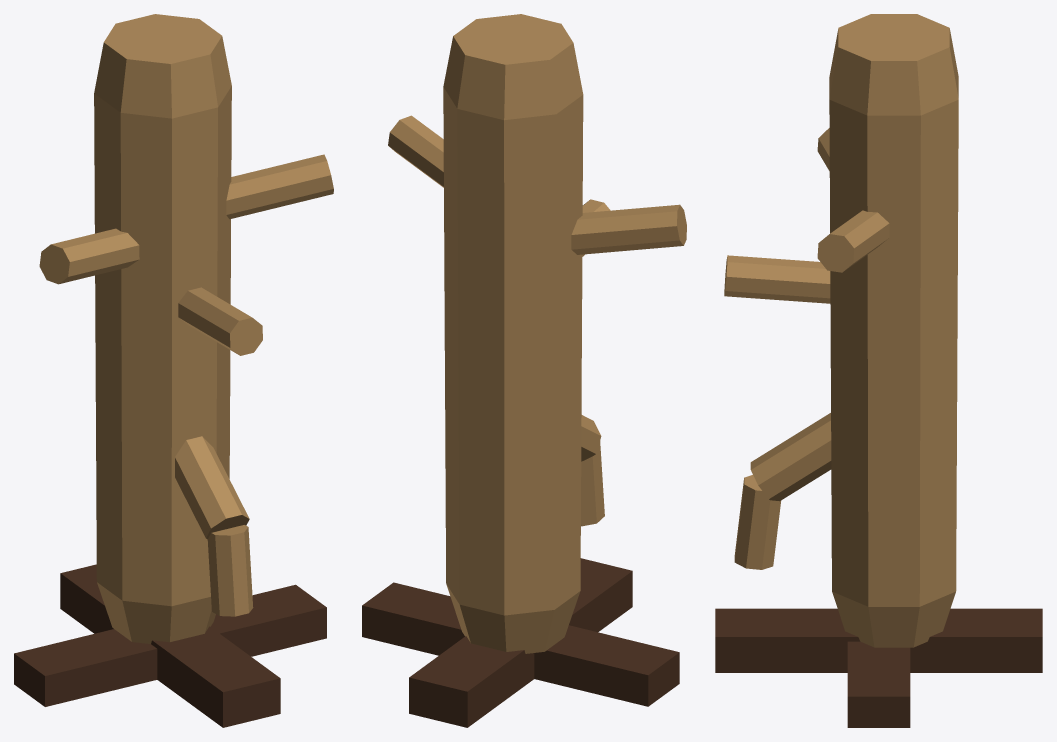
Rendered from fn_dummy.glb.
The picture shows the model from 3 angles, left to right: view 1: azimuth 30°, elevation 25°; view 2: azimuth 150°, elevation 25°; view 3: azimuth 270°, elevation 25°; orthographic projection.
Visible parts, largest first — view 1: fn_dummy__wood_pine, fn_dummy__wood_dark; view 2: fn_dummy__wood_pine, fn_dummy__wood_dark; view 3: fn_dummy__wood_pine, fn_dummy__wood_dark.
Part boxes in pixels (left/top/right/bottom): fn_dummy__wood_pine: left=39, top=14, right=333, bottom=643; fn_dummy__wood_dark: left=14, top=564, right=326, bottom=727; fn_dummy__wood_pine: left=388, top=14, right=686, bottom=653; fn_dummy__wood_dark: left=362, top=558, right=679, bottom=727; fn_dummy__wood_pine: left=724, top=14, right=958, bottom=647; fn_dummy__wood_dark: left=715, top=608, right=1042, bottom=727.
Size of the model in its own units: 7.75 by 15.9 by 7.6.
